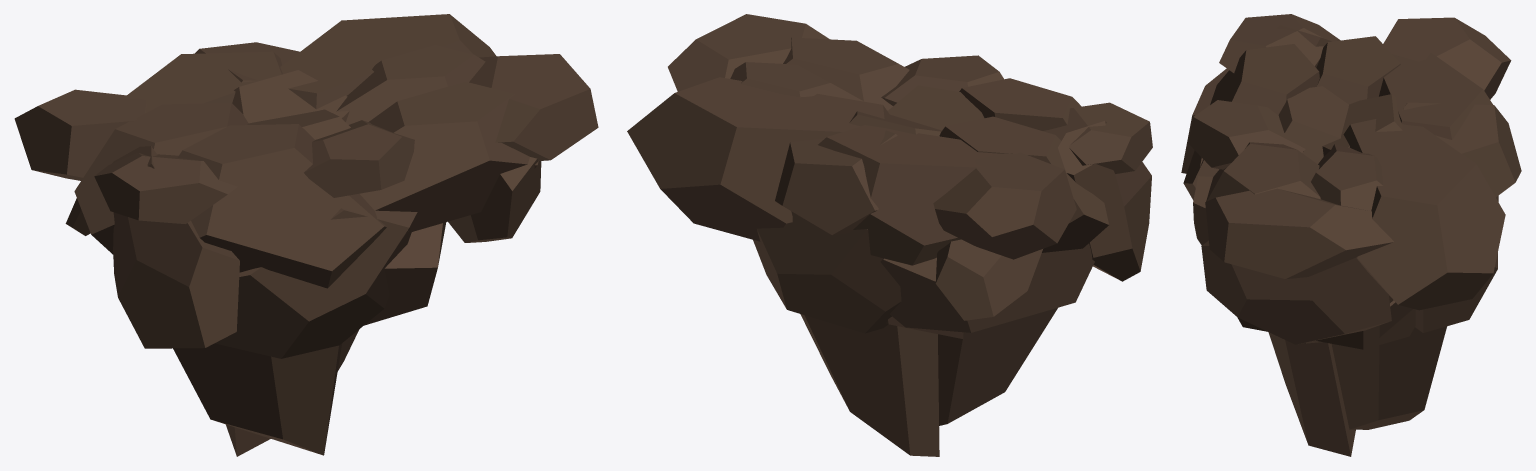
File: Rock_Floor2_Chunk.fbx
3 views of the same model, side by side, from view 1: azimuth 30°, elevation 25°; view 2: azimuth 150°, elevation 25°; view 3: azimuth 270°, elevation 25° (orthographic). The views are drawn at different scales.
Visible parts, largest first — view 1: Rock_Floor2_Chunk; view 2: Rock_Floor2_Chunk; view 3: Rock_Floor2_Chunk.
Boxes of the visible parts, <box> form: Rock_Floor2_Chunk: <box>14,14,598,456</box>; Rock_Floor2_Chunk: <box>627,14,1152,456</box>; Rock_Floor2_Chunk: <box>1181,14,1521,456</box>.
Size of the model in its own units: 631 by 459 by 411.
